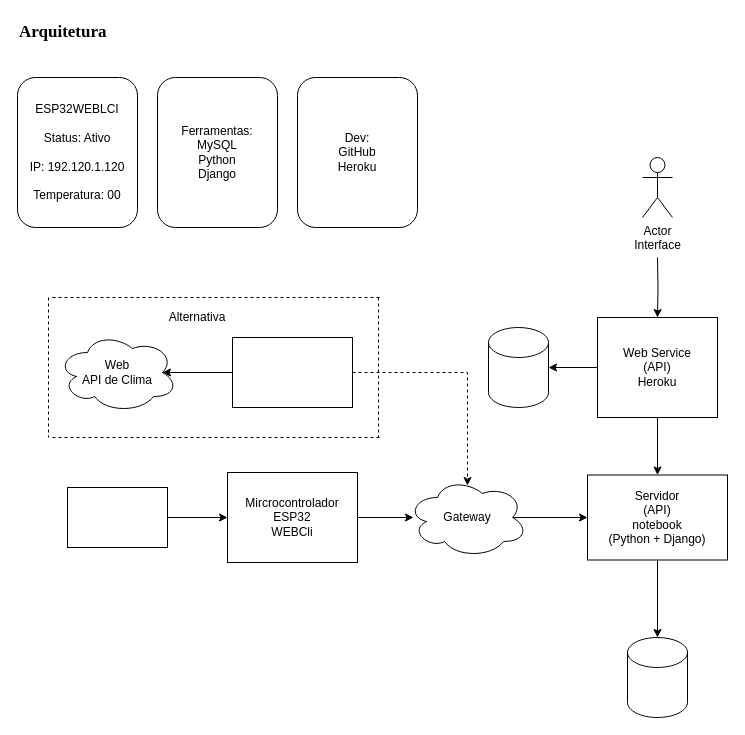
Image size: 745x735. Some labels were removed from this diagram. The centre of each missing label's shape, as x and y in pixels:
"DataBase MySQL" belongs at pixel 657 677.
"DataBase Postgres" belongs at pixel 518 367.
"Python" belongs at pixel 292 372.
"Sensor de Temperatura" belongs at pixel 117 517.
